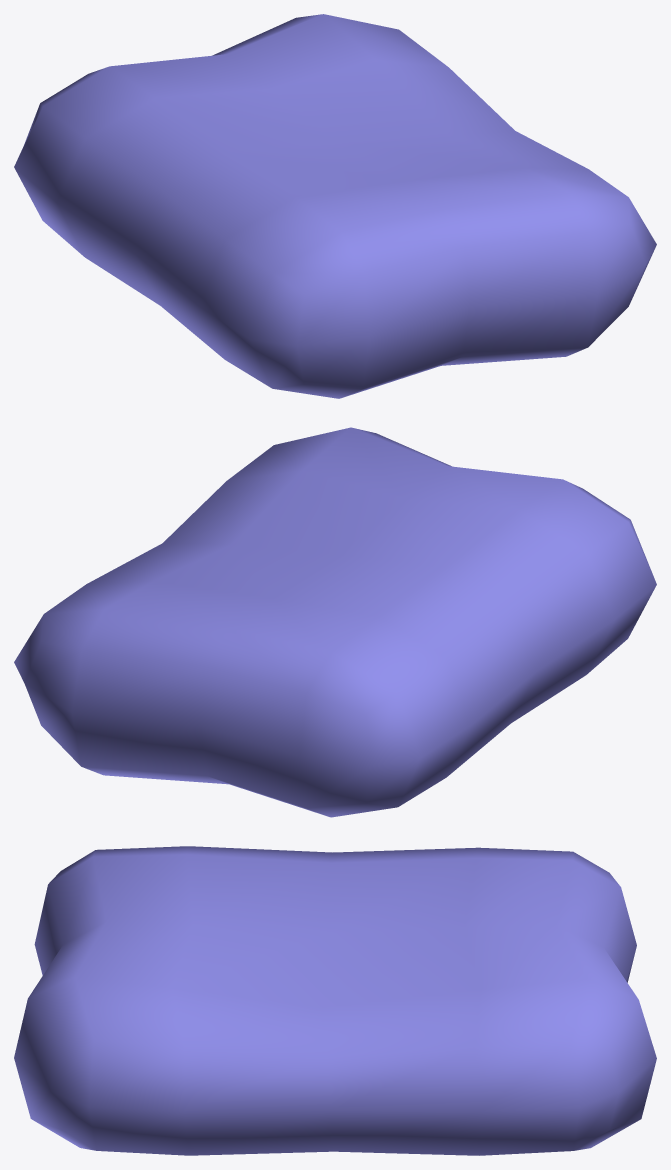
The model's file is tyyny.fbx.
3 views of the same model, one above another, from view 1: azimuth 30°, elevation 25°; view 2: azimuth 150°, elevation 25°; view 3: azimuth 270°, elevation 25° (orthographic). The views are drawn at different scales.
Visible parts, largest first — view 1: tyyny2; view 2: tyyny2; view 3: tyyny2.
Boxes of the visible parts, box(x1,y1,x2,y2) form: tyyny2: box(14, 14, 656, 398); tyyny2: box(14, 427, 656, 817); tyyny2: box(14, 846, 656, 1155).
Bounding box in the file's own units: 42.66 × 17.65 × 55.16.
